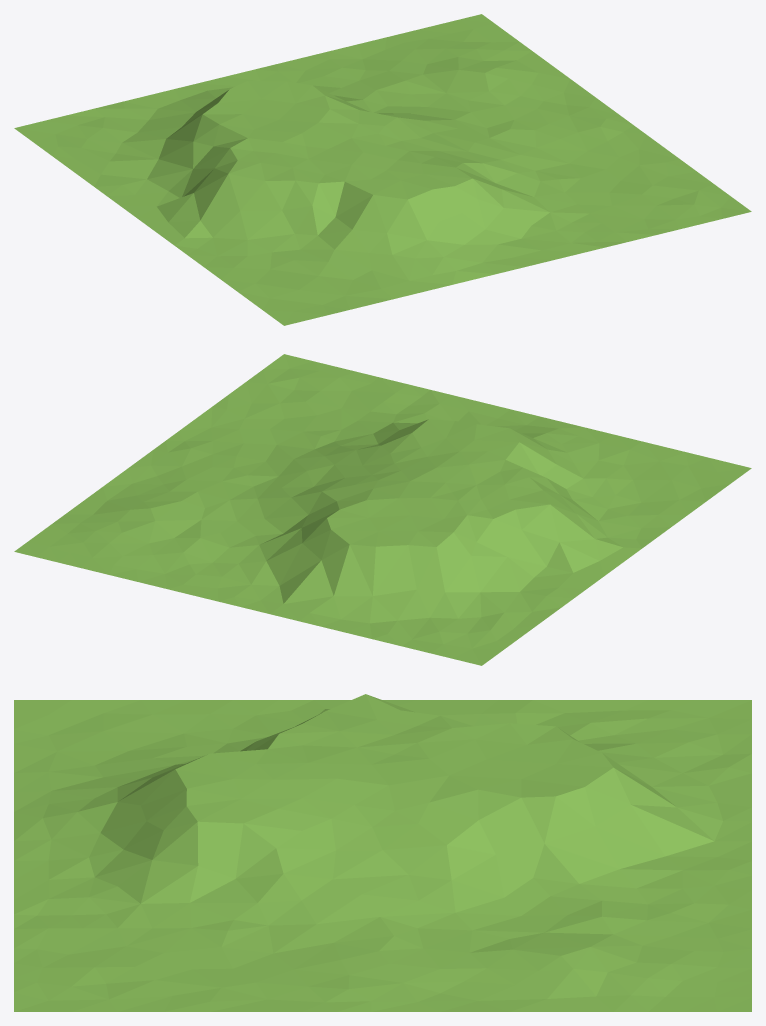
File: MT_Terrain_M_d_16.fbx
The picture shows the model from 3 angles, top to bottom: view 1: azimuth 30°, elevation 25°; view 2: azimuth 150°, elevation 25°; view 3: azimuth 270°, elevation 25°; orthographic projection. The views are drawn at different scales.
Parts seen in each view (by area): view 1: MT_Terrain_M_d_16; view 2: MT_Terrain_M_d_16; view 3: MT_Terrain_M_d_16.
Part boxes in pixels (box(x1,y1,x2,y2)): MT_Terrain_M_d_16: box(14, 14, 751, 325); MT_Terrain_M_d_16: box(14, 354, 751, 665); MT_Terrain_M_d_16: box(14, 694, 751, 1011).
Bounding box in the file's own units: 5000 × 418 × 5000.
